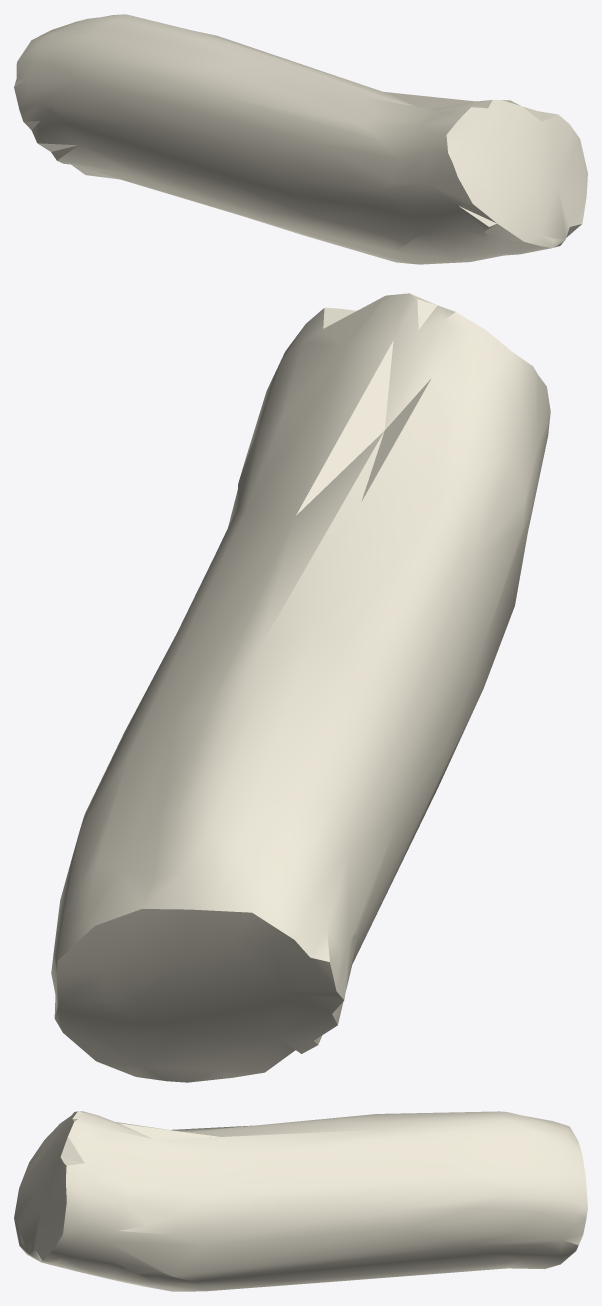
Rendered from fma60887_mm1044m.glb.
The picture shows the model from 3 angles, top to bottom: view 1: azimuth 30°, elevation 25°; view 2: azimuth 150°, elevation 25°; view 3: azimuth 270°, elevation 25°; orthographic projection. The views are drawn at different scales.
Visible parts, largest first — view 1: FMA60887_MM1044M; view 2: FMA60887_MM1044M; view 3: FMA60887_MM1044M.
Part boxes in pixels (bbox=[...]): FMA60887_MM1044M: bbox=[14, 14, 587, 264]; FMA60887_MM1044M: bbox=[51, 293, 550, 1082]; FMA60887_MM1044M: bbox=[14, 1111, 587, 1291].
Bounding box in the file's own units: 0.00157 × 0.00112 × 0.00293.
